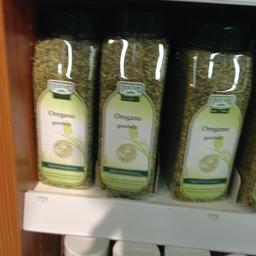spices: (170, 39, 252, 201), (95, 24, 167, 197), (31, 36, 96, 190)
